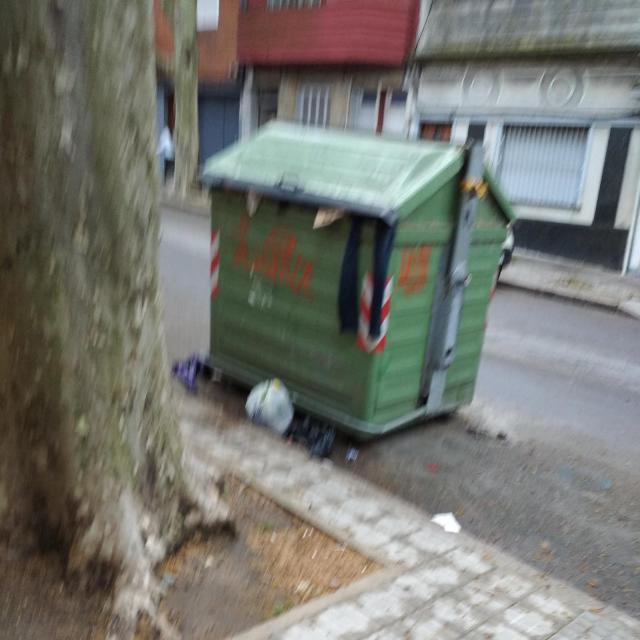garbage: (166, 338, 341, 468), (220, 173, 392, 266)
